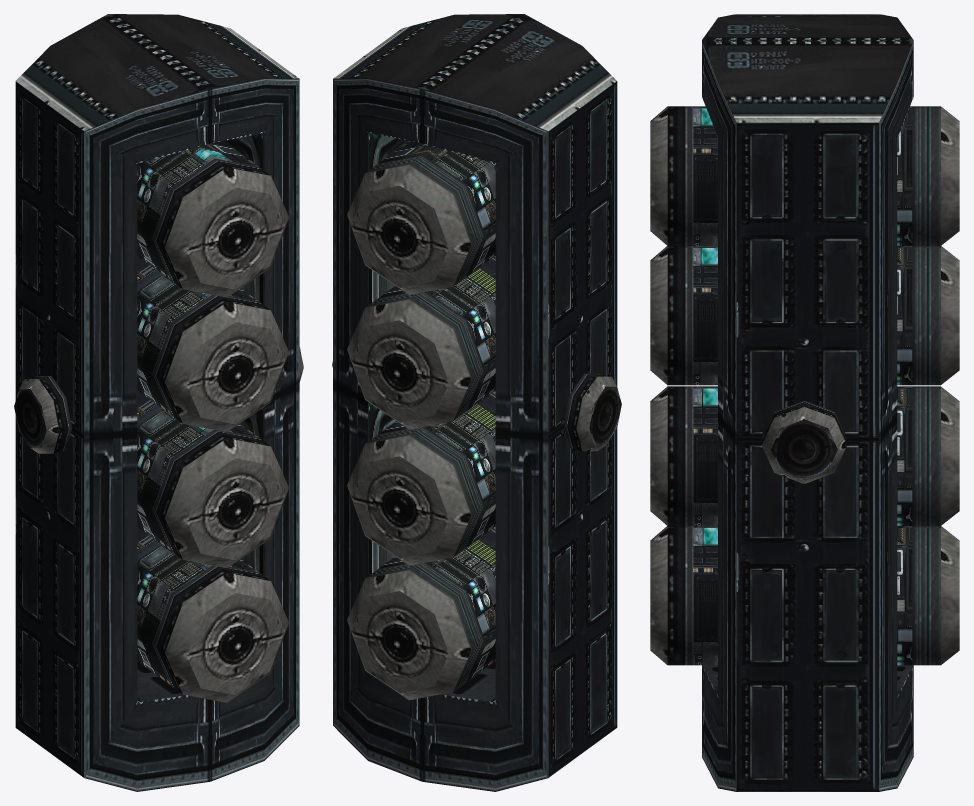
Rendered from Battery_small_07.FBX.
3 views of the same model, side by side, from view 1: azimuth 30°, elevation 25°; view 2: azimuth 150°, elevation 25°; view 3: azimuth 270°, elevation 25° (orthographic). The views are drawn at different scales.
Visible parts, largest first — view 1: Battery_small_07, Liquid; view 2: Battery_small_07, Liquid; view 3: Battery_small_07, Liquid.
Boxes of the visible parts, box(x1,y1,x2,y2) form: Battery_small_07: box(14, 14, 303, 791); Liquid: box(137, 141, 257, 684); Battery_small_07: box(332, 14, 621, 791); Liquid: box(379, 141, 495, 681); Battery_small_07: box(650, 14, 959, 791); Liquid: box(693, 106, 912, 665).
Size of the model in its own units: 80.33 by 207 by 80.89.
